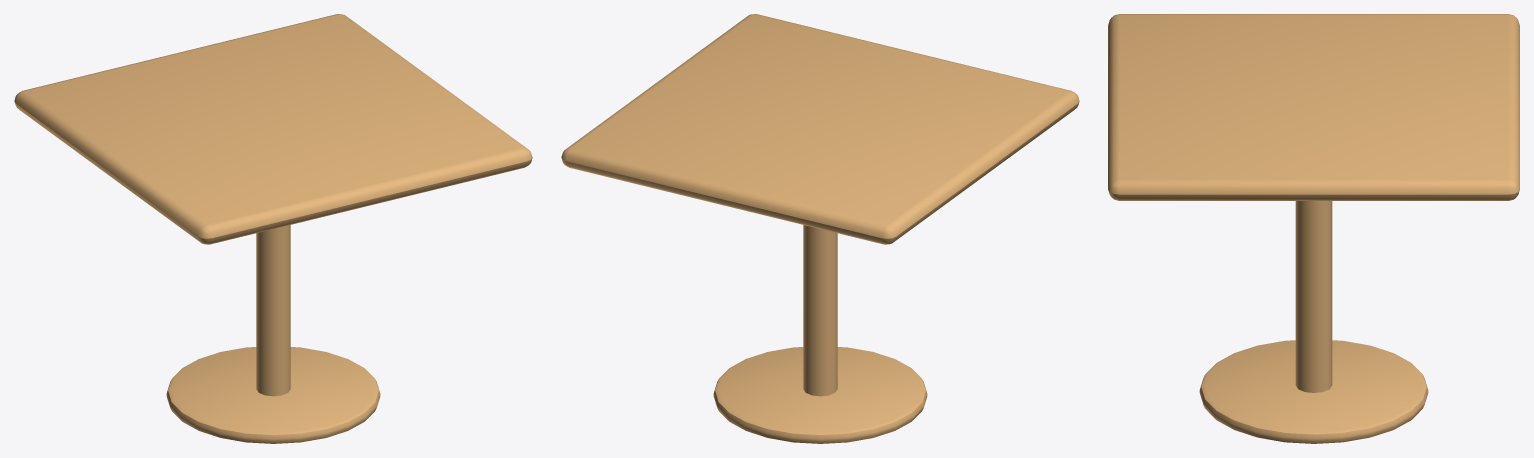
File: games_table_pine.glb
The picture shows the model from 3 angles, left to right: view 1: azimuth 30°, elevation 25°; view 2: azimuth 150°, elevation 25°; view 3: azimuth 270°, elevation 25°; orthographic projection. The views are drawn at different scales.
Parts seen in each view (by area): view 1: pine; view 2: pine; view 3: pine.
Boxes of the visible parts, x1,y1,x2,y2 form: pine: (14,14,532,443); pine: (561,14,1079,443); pine: (1108,14,1519,443).
Bounding box in the file's own units: 0.9 × 0.725 × 0.9.
